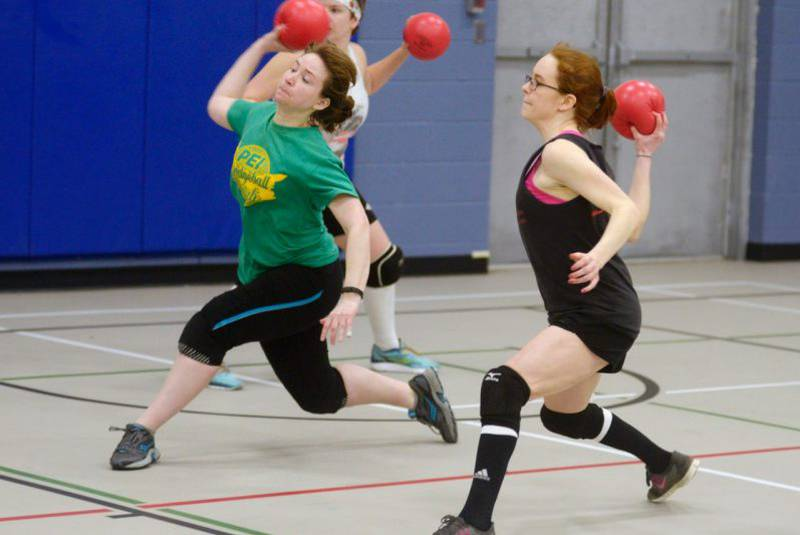red ball: (604, 79, 668, 142), (271, 1, 333, 52), (399, 11, 453, 62)
